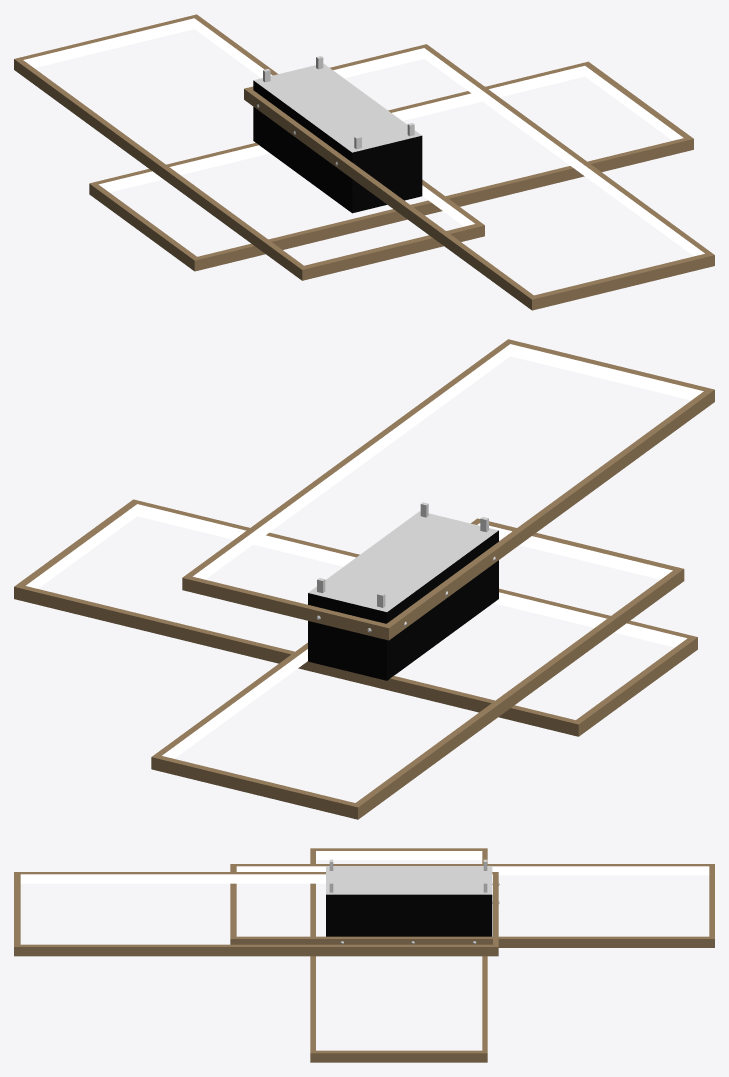
The model's file is ceilingLight.gltf.
The picture shows the model from 3 angles, top to bottom: view 1: azimuth 30°, elevation 25°; view 2: azimuth 150°, elevation 25°; view 3: azimuth 270°, elevation 25°; orthographic projection. The views are drawn at different scales.
Visible parts, largest first — view 1: Cube.001, Cube.002, Cube, Cube.003; view 2: Cube, Cube.001, Cube.002, Cube.003; view 3: Cube.001, Cube, Cube.003, Cube.002.
Part boxes in pixels (left/top/right/bottom): Cube.001: left=253, top=56, right=422, bottom=213; Cube.002: left=89, top=61, right=693, bottom=271; Cube: left=244, top=44, right=714, bottom=310; Cube.003: left=14, top=14, right=484, bottom=280; Cube: left=182, top=339, right=714, bottom=640; Cube.001: left=308, top=502, right=498, bottom=680; Cube.002: left=14, top=499, right=697, bottom=736; Cube.003: left=151, top=518, right=684, bottom=819; Cube.001: left=326, top=859, right=492, bottom=936; Cube: left=14, top=872, right=498, bottom=956; Cube.003: left=230, top=864, right=714, bottom=947; Cube.002: left=310, top=848, right=487, bottom=1062.
Bounding box in the file's own units: 10.54 × 1.66 × 15.24.
